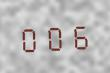six: (67, 19, 90, 51)
zero: (18, 21, 41, 53), (43, 20, 66, 52)
